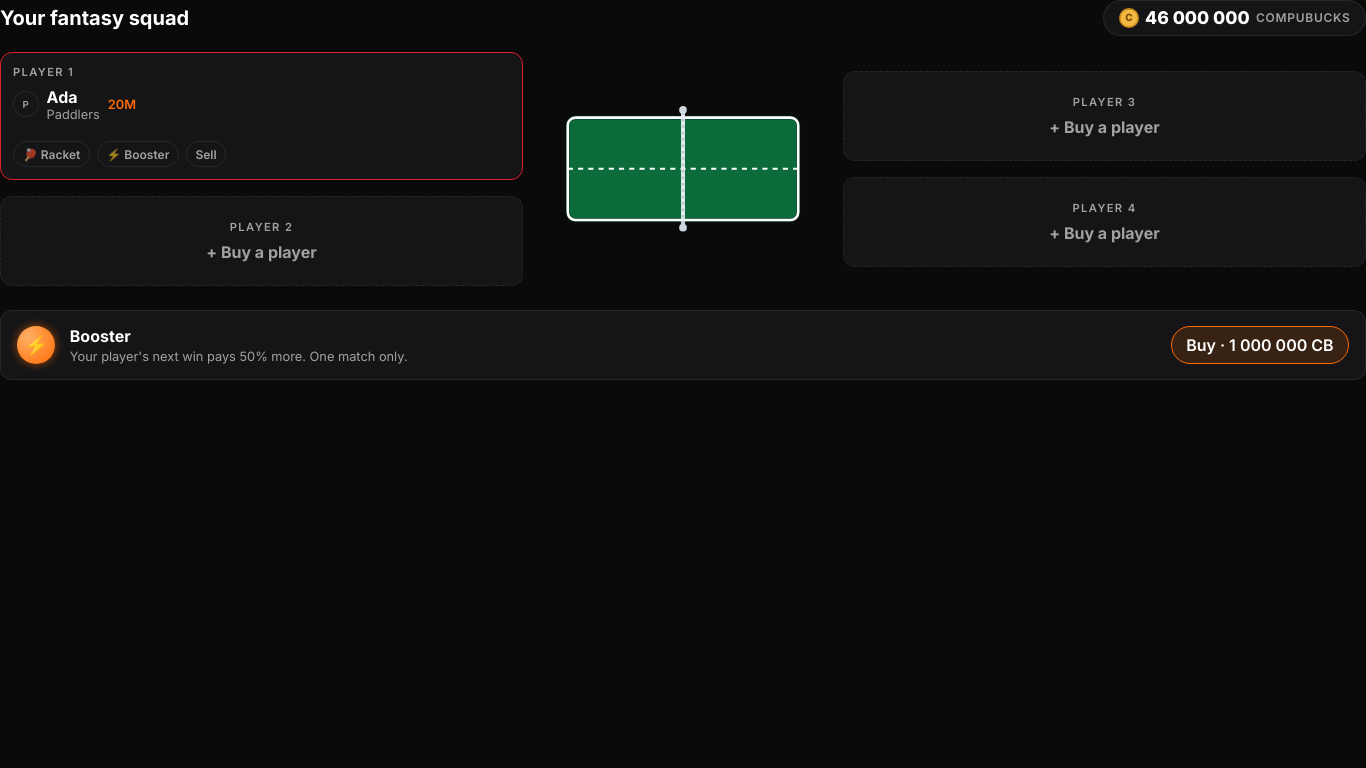
Test: FantasyTeam › staging a pick does NOT spend money (no assignSlot yet)
Click the button "Player 2 + Buy a player". click: [262, 241]
box: [1,197,522,285]
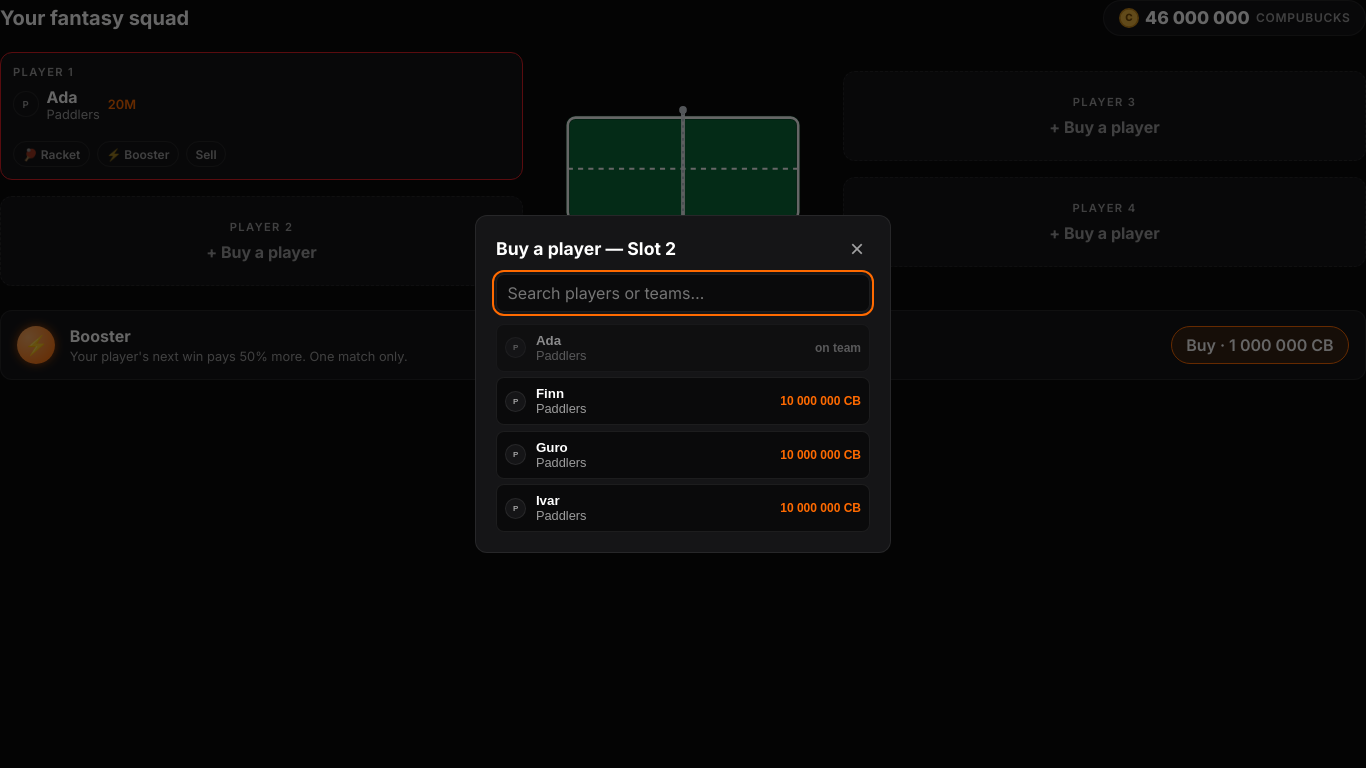
Expected: the dialog is shown
Click the button "P Finn Paddlers 10 000 000 CB". click: [561, 409]
box: [496,377,870,425]
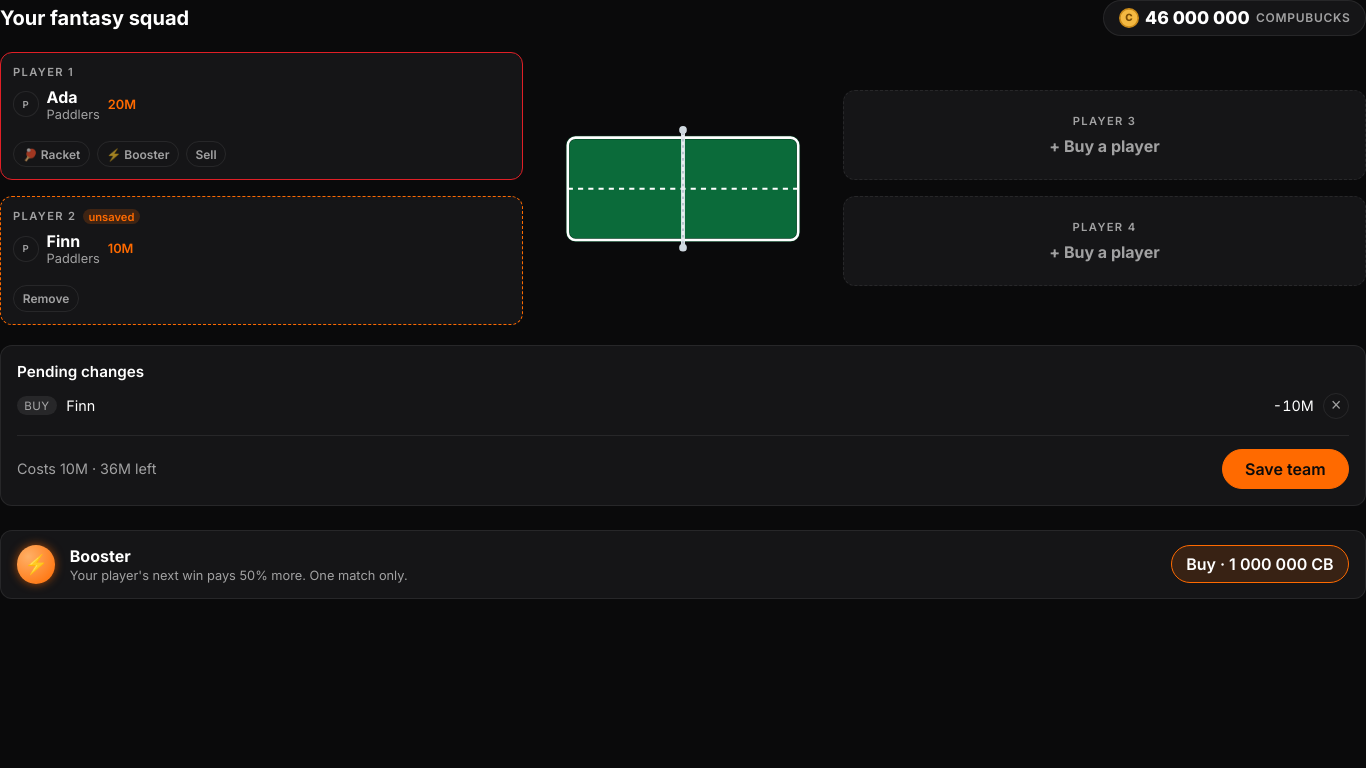
Expected: the 1st text "Finn" is shown, [47,231,80,251]
Expected: the text "unsaved" is shown, [83,209,140,224]
